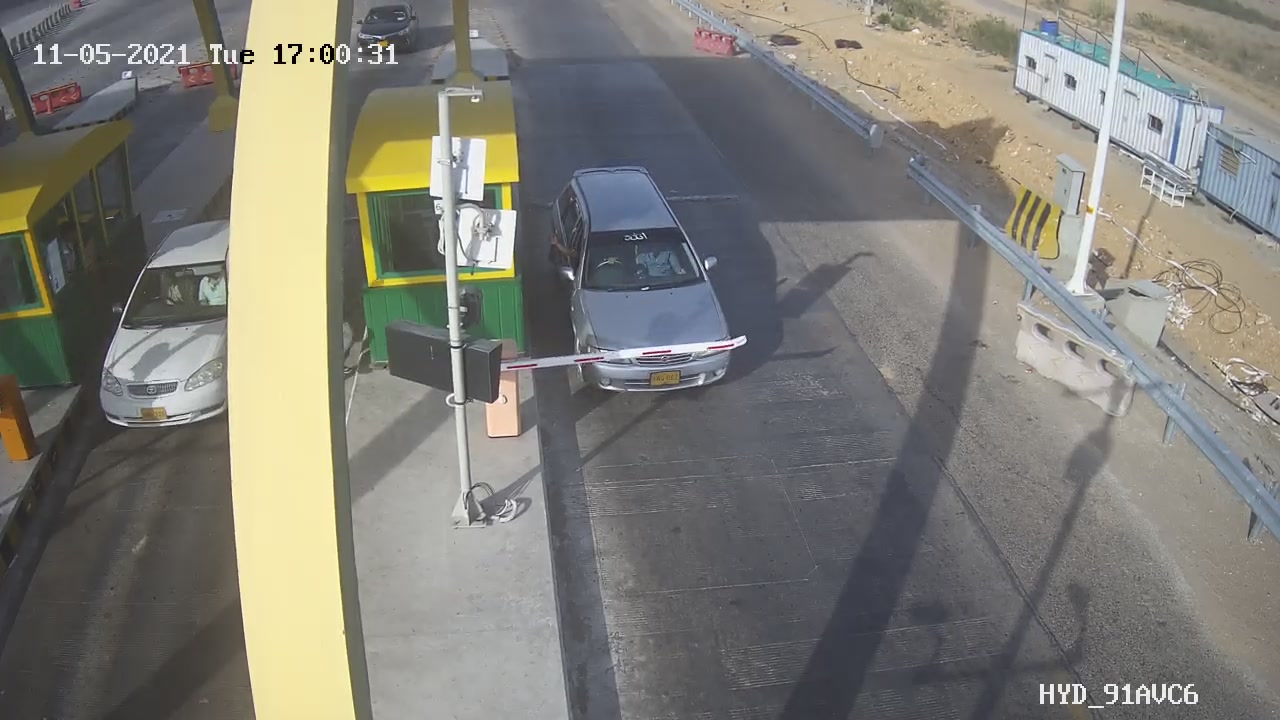F1: (531, 147, 763, 418)
